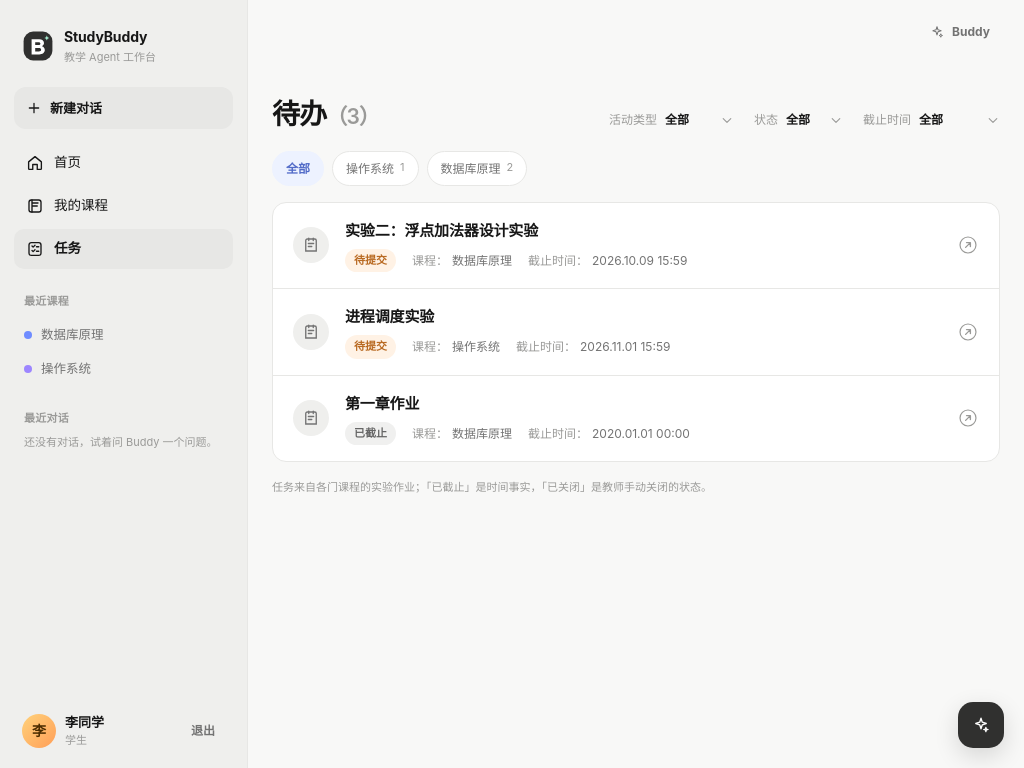
Test: 任务页 › 课程芯片按课程筛选并标记选中态
The image size is (1024, 768).
Expected: the text "实验二：浮点加法器设计实验" is shown, left=345, top=221, right=538, bottom=240
Click the button "操作系统 1". click: (375, 168)
box: left=332, top=151, right=418, bottom=186
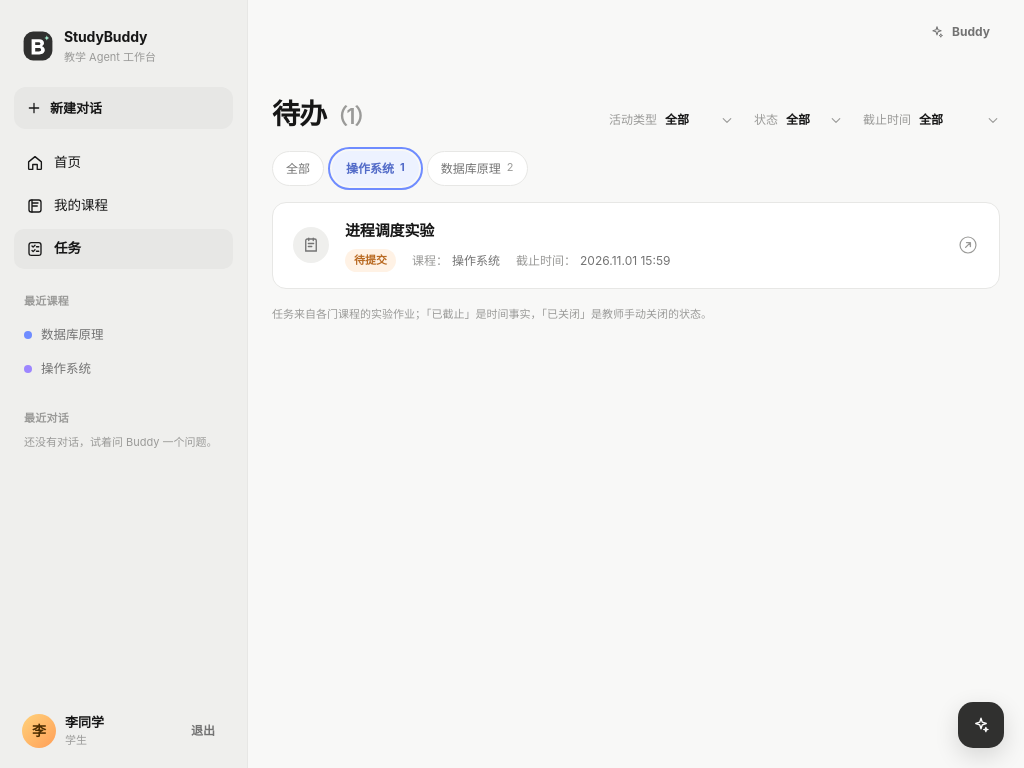
Expected: the text "进程调度实验" is shown, left=345, top=221, right=434, bottom=240
Result: the link "实验二：浮点加法器设计实验" is gone
Result: the heading "待办（1）" is shown at left=272, top=96, right=375, bottom=132
